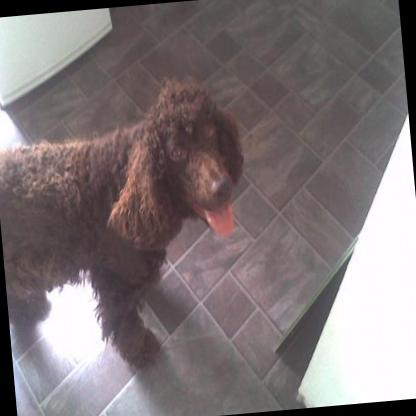Irish_water_spaniel: (0, 70, 260, 378)
